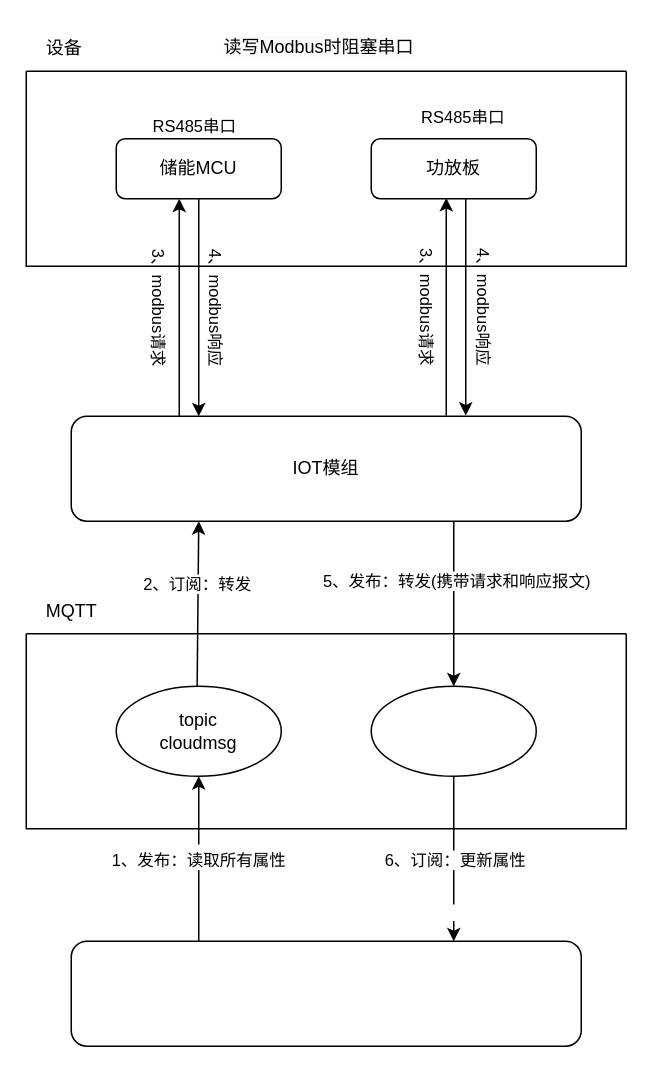
The diagram is 653 pixels wide and 1073 high, and some of its shapes have lost their labels. The centre of each missing label's shape, as x and y in pixels:
"topic devmsg" goes at (x=453, y=730).
"云平台" goes at (x=325, y=993).
